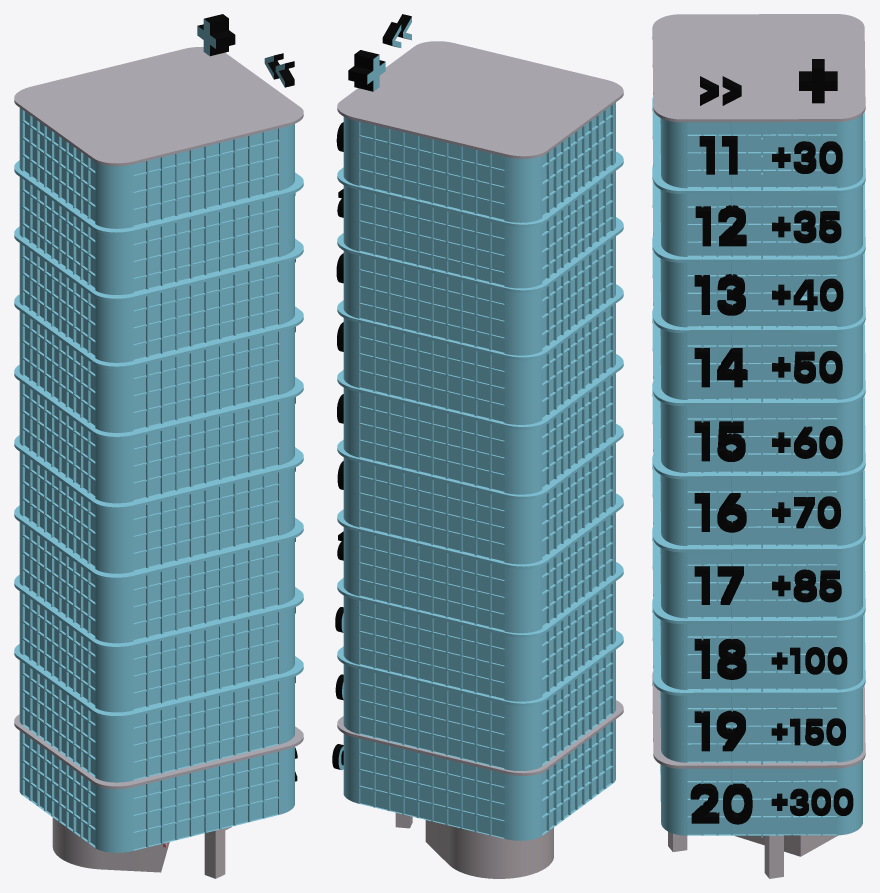
The model's file is tower3.fbx.
The picture shows the model from 3 angles, left to right: view 1: azimuth 30°, elevation 25°; view 2: azimuth 150°, elevation 25°; view 3: azimuth 270°, elevation 25°; orthographic projection. The views are drawn at different scales.
Visible parts, largest first — view 1: Cube.021; view 2: Cube.021; view 3: Cube.021.
Part boxes in pixels (x1,y1,x2,y2): Cube.021: (14,14,303,878); Cube.021: (332,14,623,878); Cube.021: (652,14,865,878).
Size of the model in its own units: 3317 by 11844 by 2794.
